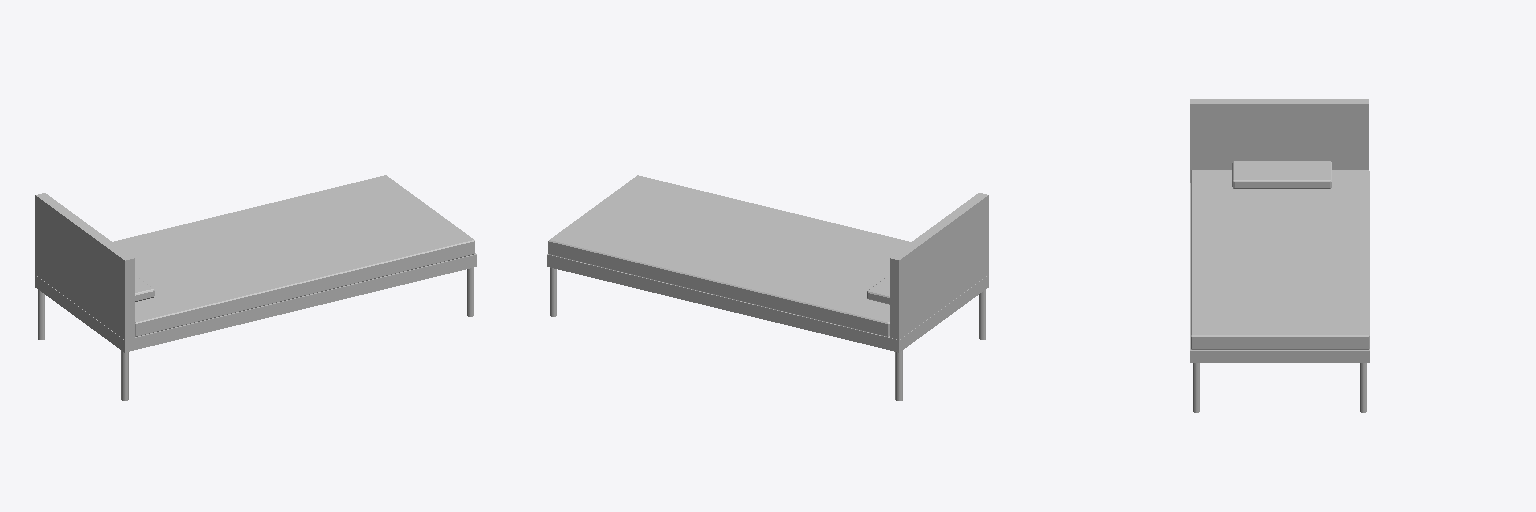
The model's file is cama.obj.
3 renders of one model, left to right at view 1: azimuth 30°, elevation 25°; view 2: azimuth 150°, elevation 25°; view 3: azimuth 270°, elevation 25°, orthographic.
Parts seen in each view (by area): view 1: Cube_Cube.005, Cabeceira_Cube.001, Base_Cube; view 2: Cube_Cube.005, Cabeceira_Cube.001, Base_Cube; view 3: Cube_Cube.005, Cabeceira_Cube.001, Travesseiro_Cube.004, Base_Cube.
Boxes of the visible parts, box(x1,y1,x2,y2) form: Cube_Cube.005: box(113, 175, 474, 336); Cabeceira_Cube.001: box(35, 193, 134, 339); Base_Cube: box(35, 253, 476, 352); Cube_Cube.005: box(548, 175, 910, 336); Cabeceira_Cube.001: box(890, 193, 988, 339); Base_Cube: box(547, 254, 988, 352); Cube_Cube.005: box(1191, 170, 1369, 349); Cabeceira_Cube.001: box(1190, 99, 1368, 182); Travesseiro_Cube.004: box(1232, 161, 1331, 188); Base_Cube: box(1190, 183, 1369, 362).
Size of the model in its own units: 4.54 by 1.75 by 2.